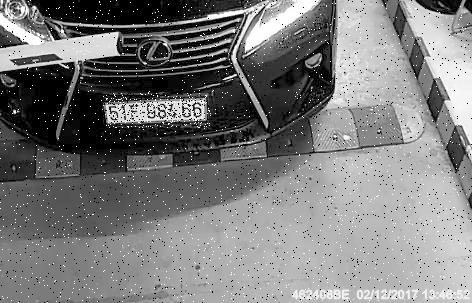License-plate: (105, 94, 212, 129)
